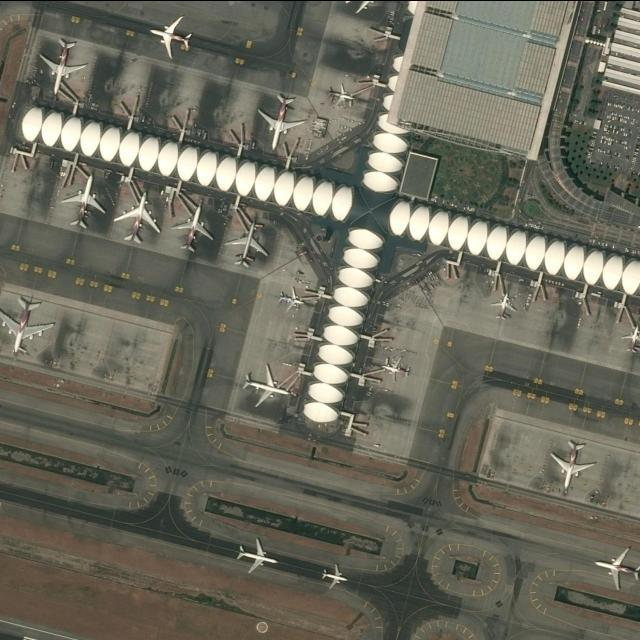Aircraft: (1, 294, 55, 355), (256, 88, 309, 146), (64, 170, 109, 232), (38, 38, 86, 94), (116, 190, 164, 244), (551, 434, 596, 488), (148, 13, 195, 61), (244, 363, 292, 409), (173, 201, 215, 252), (594, 544, 640, 590), (228, 220, 270, 270), (237, 536, 279, 574), (318, 561, 350, 589), (383, 353, 411, 383), (492, 290, 520, 318), (279, 284, 305, 313), (331, 80, 355, 107), (621, 322, 640, 354), (345, 0, 375, 14)
